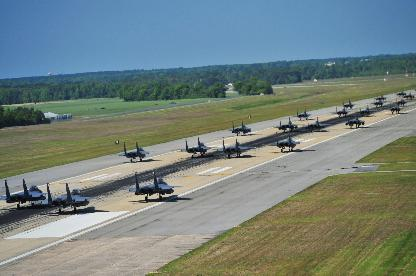F117: (27, 181, 99, 212), (116, 170, 184, 199), (0, 178, 55, 207), (111, 139, 157, 160), (208, 136, 256, 156), (172, 136, 218, 156), (262, 131, 308, 151), (294, 116, 332, 131), (222, 120, 258, 135), (268, 116, 304, 131), (335, 112, 371, 127), (350, 103, 380, 116), (379, 101, 408, 113), (288, 107, 316, 119), (327, 104, 355, 116), (336, 98, 360, 108), (366, 96, 390, 106), (388, 95, 412, 105), (391, 87, 409, 96), (370, 92, 390, 100), (399, 90, 415, 99)
